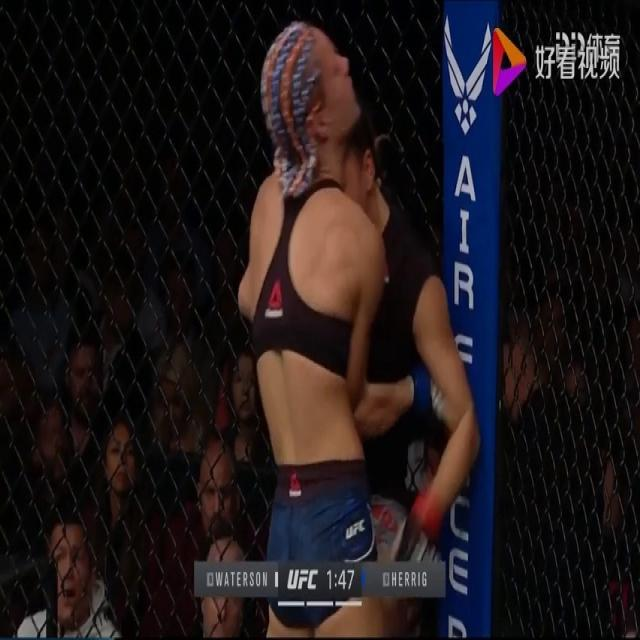fight: (225, 0, 482, 639)
